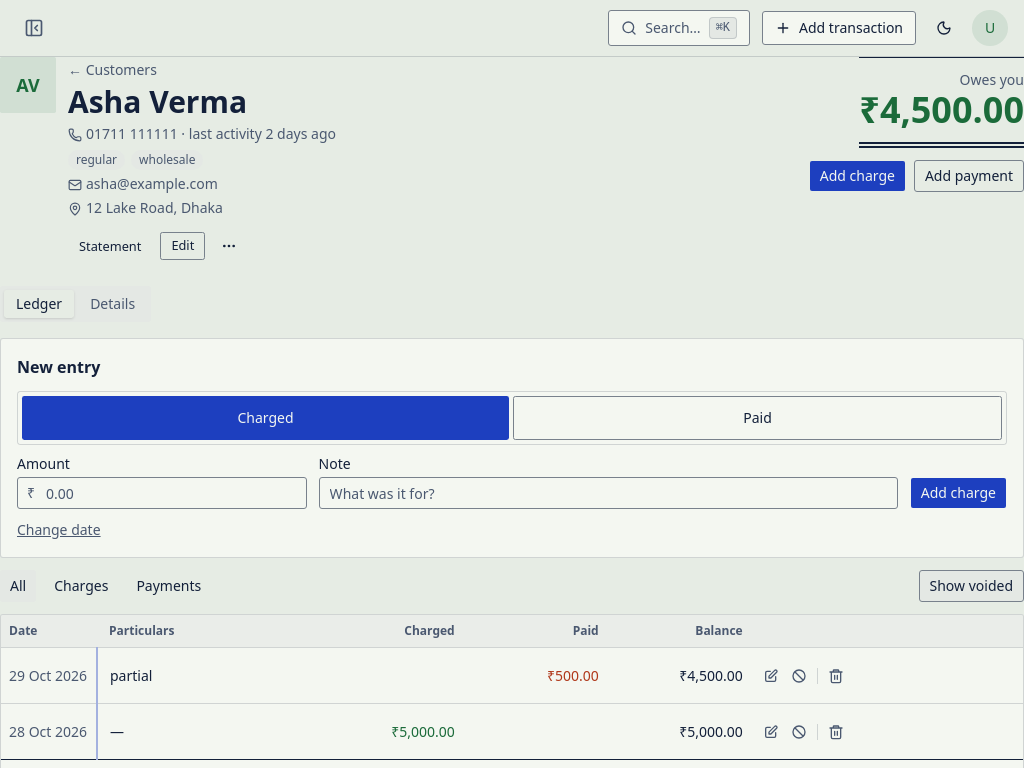
Test case: S-31 customer detail v2 › header and hero: monogram, name, phone · last activity line, tags, contacts, Edit + Archive menu, the TotalsRule balance and the two primary actions
Expected: the tab "Ledger" is shown, [4, 290, 74, 318]
Expected: the text "AV" is shown, [0, 57, 56, 113]
Click the button named "Customer actions" at (229, 246), box [213, 230, 245, 262]
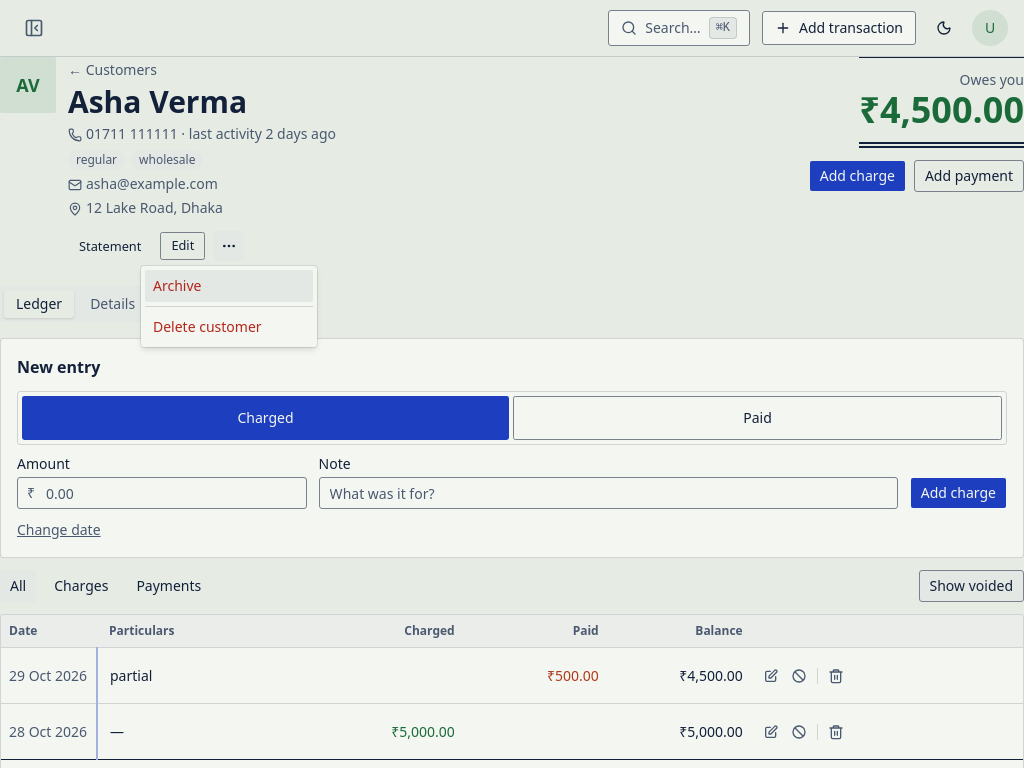
Expected: the text "Owes you" is shown, [960, 70, 1023, 89]
Expected: the menu item "Archive" is shown, [145, 270, 313, 302]
